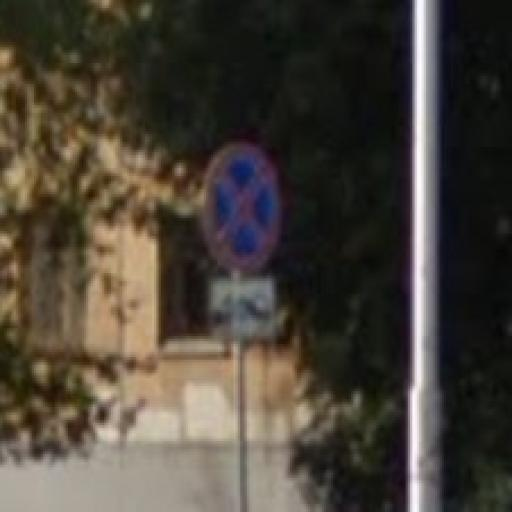traffic_sign: (200, 140, 282, 274)
